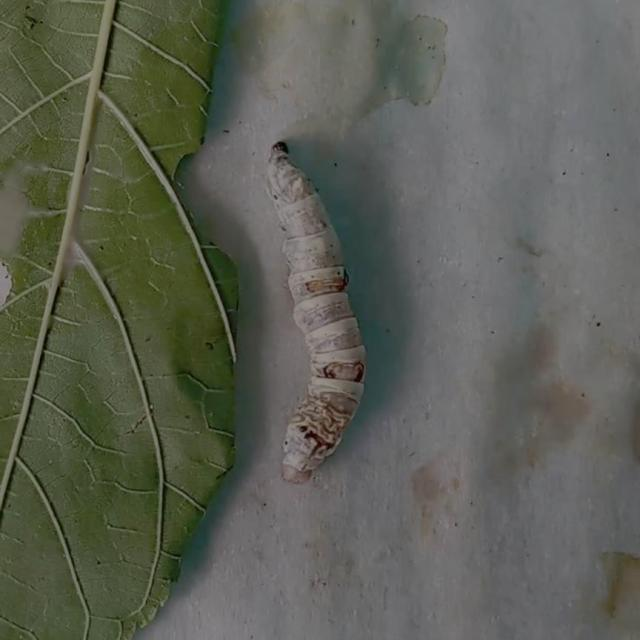Grasserie: (246, 126, 411, 492)
